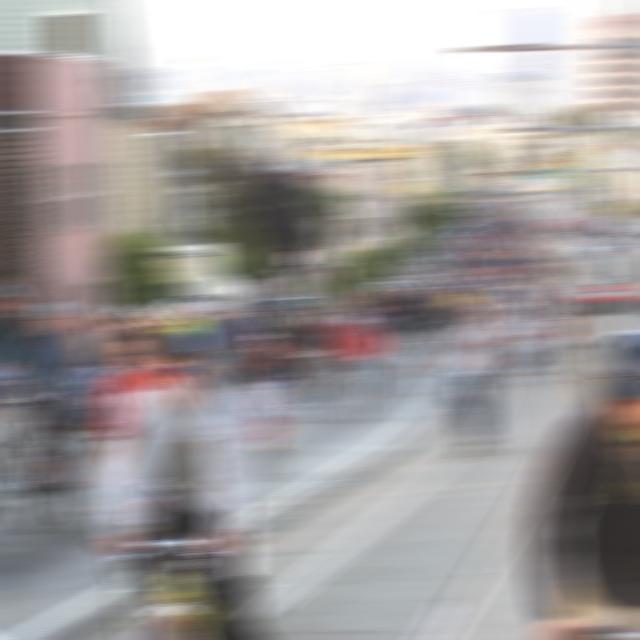Without Helmet: (152, 327, 206, 401), (466, 299, 494, 322)
